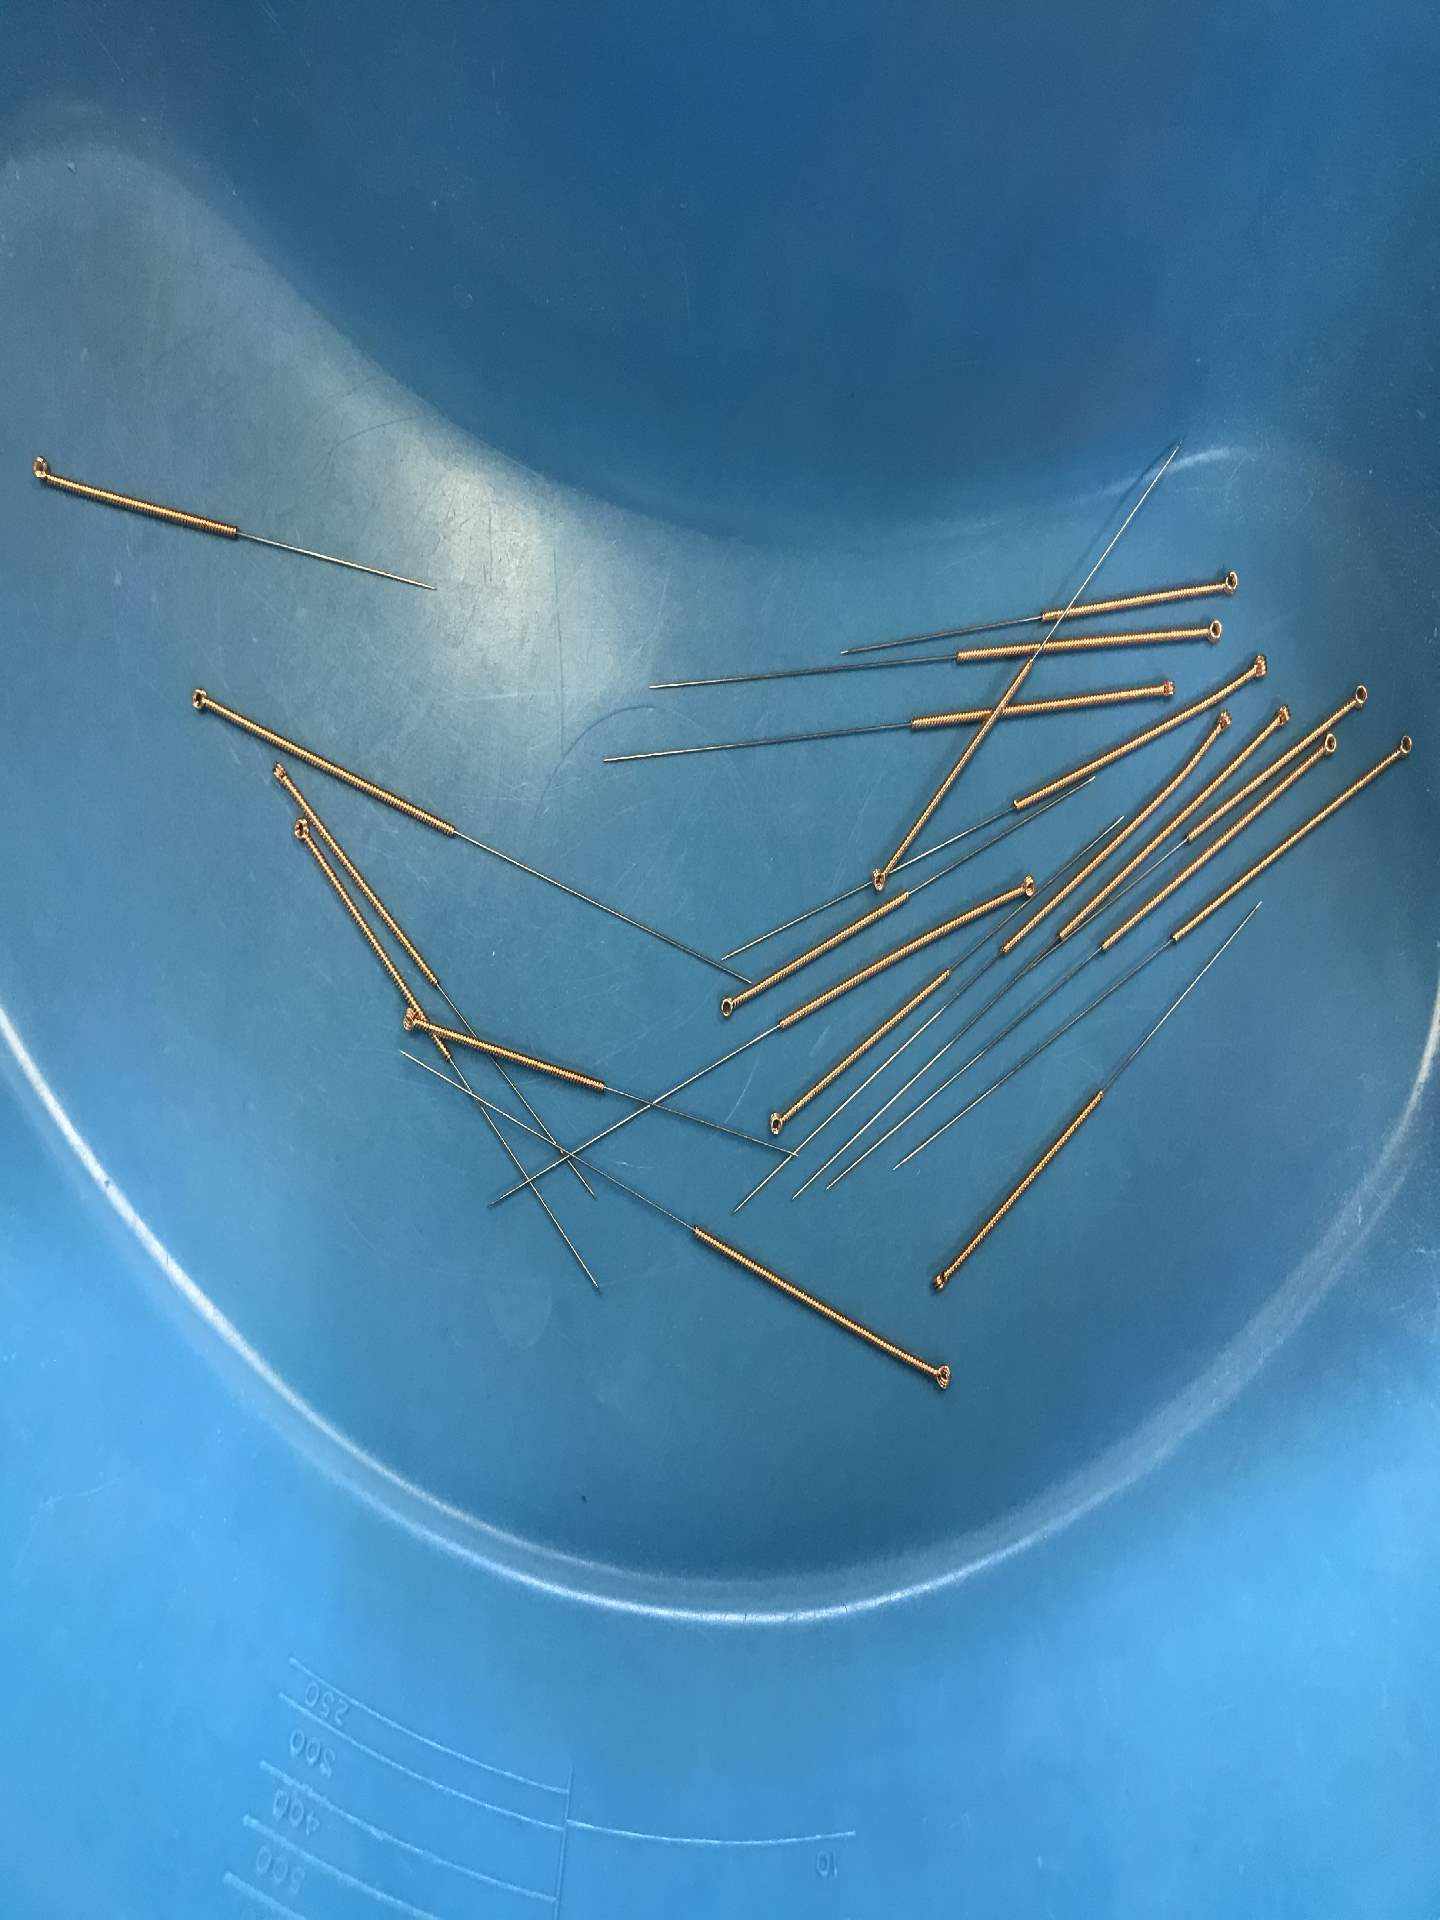needle: (183, 677, 218, 721), (921, 1356, 959, 1395), (1263, 695, 1299, 736), (1193, 612, 1230, 652), (1342, 674, 1375, 715), (1240, 647, 1275, 685), (1212, 564, 1246, 600), (924, 1261, 957, 1299), (759, 1104, 793, 1141), (1010, 866, 1044, 904), (23, 447, 53, 488), (1206, 705, 1240, 739), (1147, 671, 1180, 706), (1389, 727, 1420, 763), (711, 986, 741, 1023), (867, 856, 892, 897), (393, 1005, 424, 1039), (265, 753, 292, 789), (1317, 727, 1343, 762), (287, 813, 312, 850)
